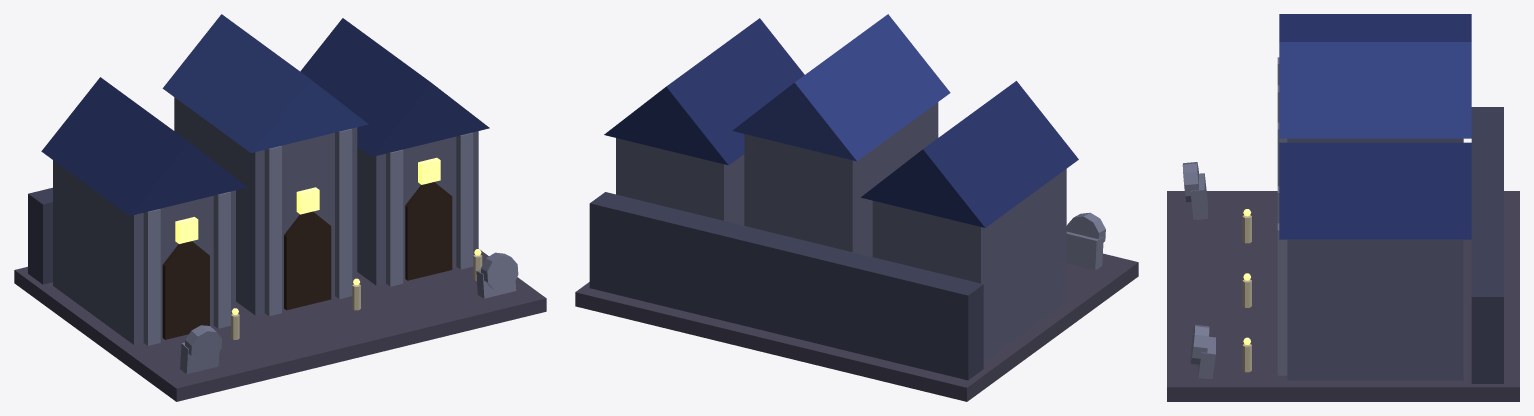
File: containers-mausoleum-row.glb
The picture shows the model from 3 angles, left to right: view 1: azimuth 30°, elevation 25°; view 2: azimuth 150°, elevation 25°; view 3: azimuth 270°, elevation 25°; orthographic projection. The views are drawn at different scales.
Visible parts, largest first — view 1: cw_paint, cw_glow; view 2: cw_paint; view 3: cw_paint.
Boxes of the visible parts, x1,y1,x2,y2 form: cw_paint: (14,14,546,401); cw_glow: (175,157,481,314); cw_paint: (575,14,1138,401); cw_paint: (1167,14,1519,401).
Bounding box in the file's own units: 5.8 × 3.6 × 4.4.
